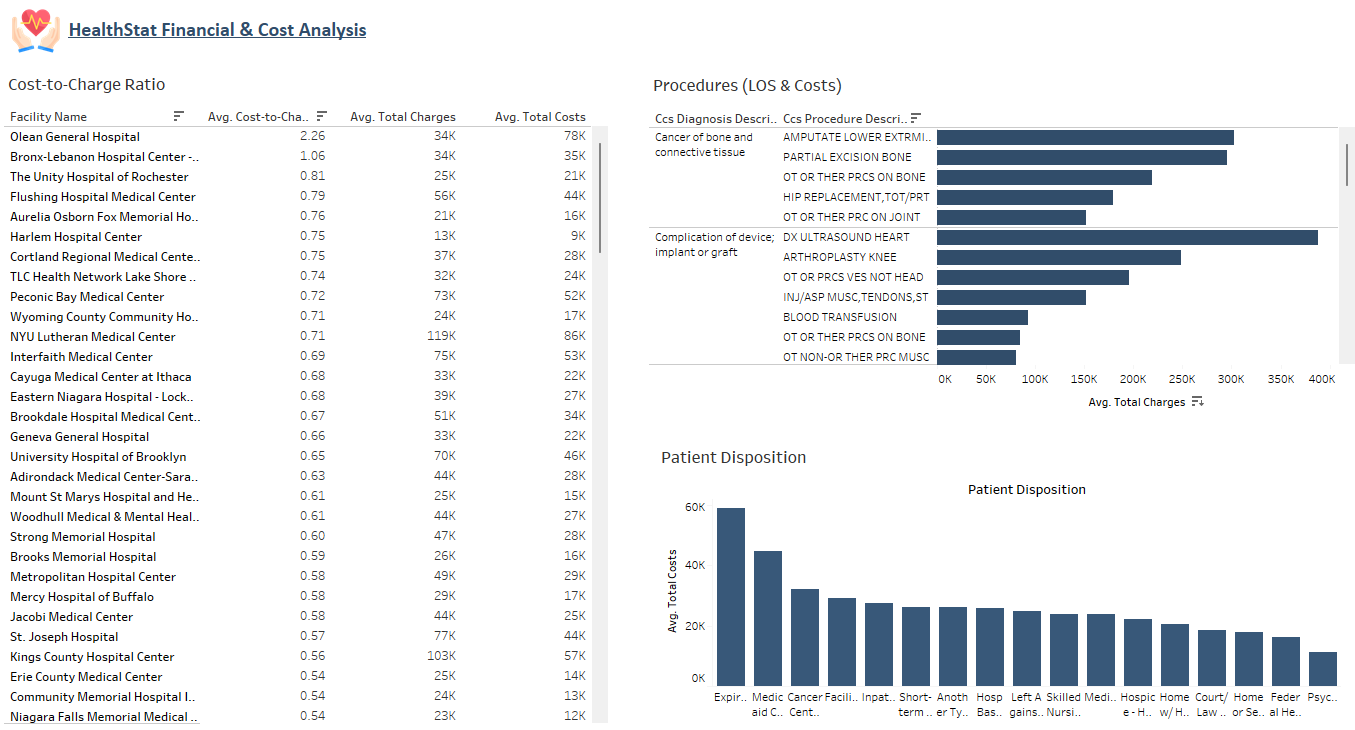

The dashboard page shown, as its layout file describes it:
{"tool":"tableau","page":{"name":"Financial & Cost Analysis","canvas":[1000,1000],"units":"permille","ordinal":1},"visuals":[{"type":"text","box":[52,6.9,512.5,73.6]},{"type":"image","param":"Image/health_18725220.png","box":[10.4,12,39,66.8]},{"type":"worksheet","title":"Cost-to-Charge Ratio","mark":"Automatic","rows":["facility_name"],"box":[6.9,97.6,452.8,887]},{"type":"worksheet","title":"Procedures (LOS & Costs)","mark":"Automatic","rows":["ccs_diagnosis_description","ccs_procedure_description"],"cols":["total_charges"],"box":[478.8,99.3,516.9,484.6]},{"type":"worksheet","title":"Patient Disposition","mark":"Automatic","rows":["total_costs"],"cols":["patient_disposition"],"box":[484.9,602.7,500.4,385.3]}]}

Visuals, with their boxes on the dashboard's canvas, which has no fixed pixel size, in thousandths of its width and height (x1, y1, x2, y2). These are canvas units, not pixel positions in the 1355x730 screenshot, which may show the page scaled, cropped or inside an application window:
text: BBox(52, 7, 564, 80)
image: BBox(10, 12, 49, 79)
"Cost-to-Charge Ratio" worksheet: BBox(7, 98, 460, 985)
"Procedures (LOS & Costs)" worksheet: BBox(479, 99, 996, 584)
"Patient Disposition" worksheet: BBox(485, 603, 985, 988)
